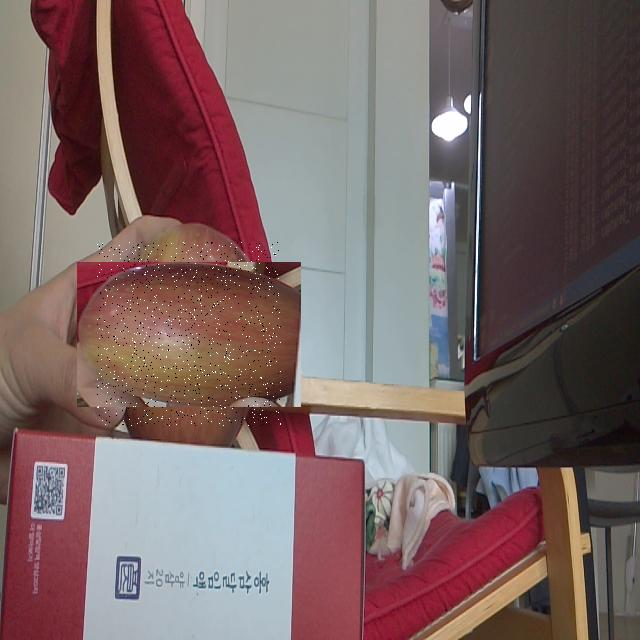apple: (97, 242, 281, 426)
